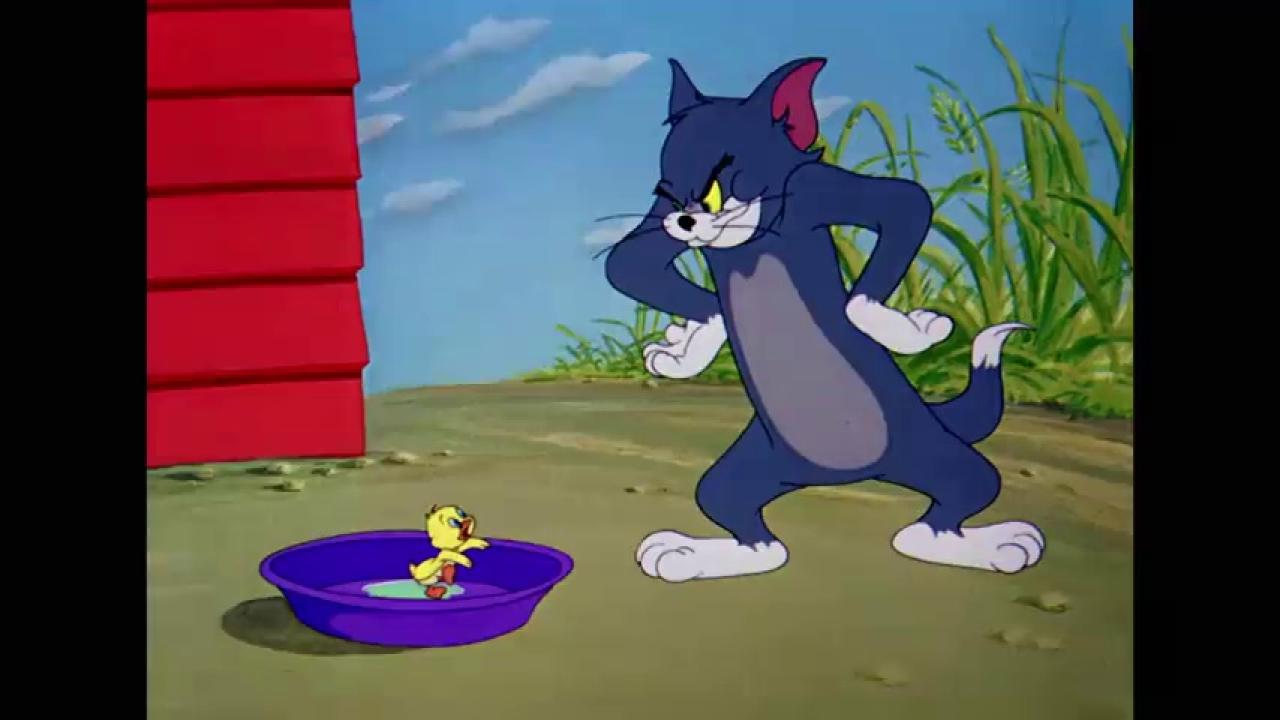Tom: (605, 52, 1048, 584)
